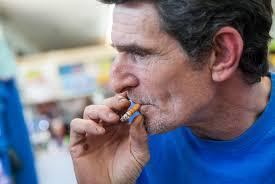smoke: (120, 104, 140, 122)
